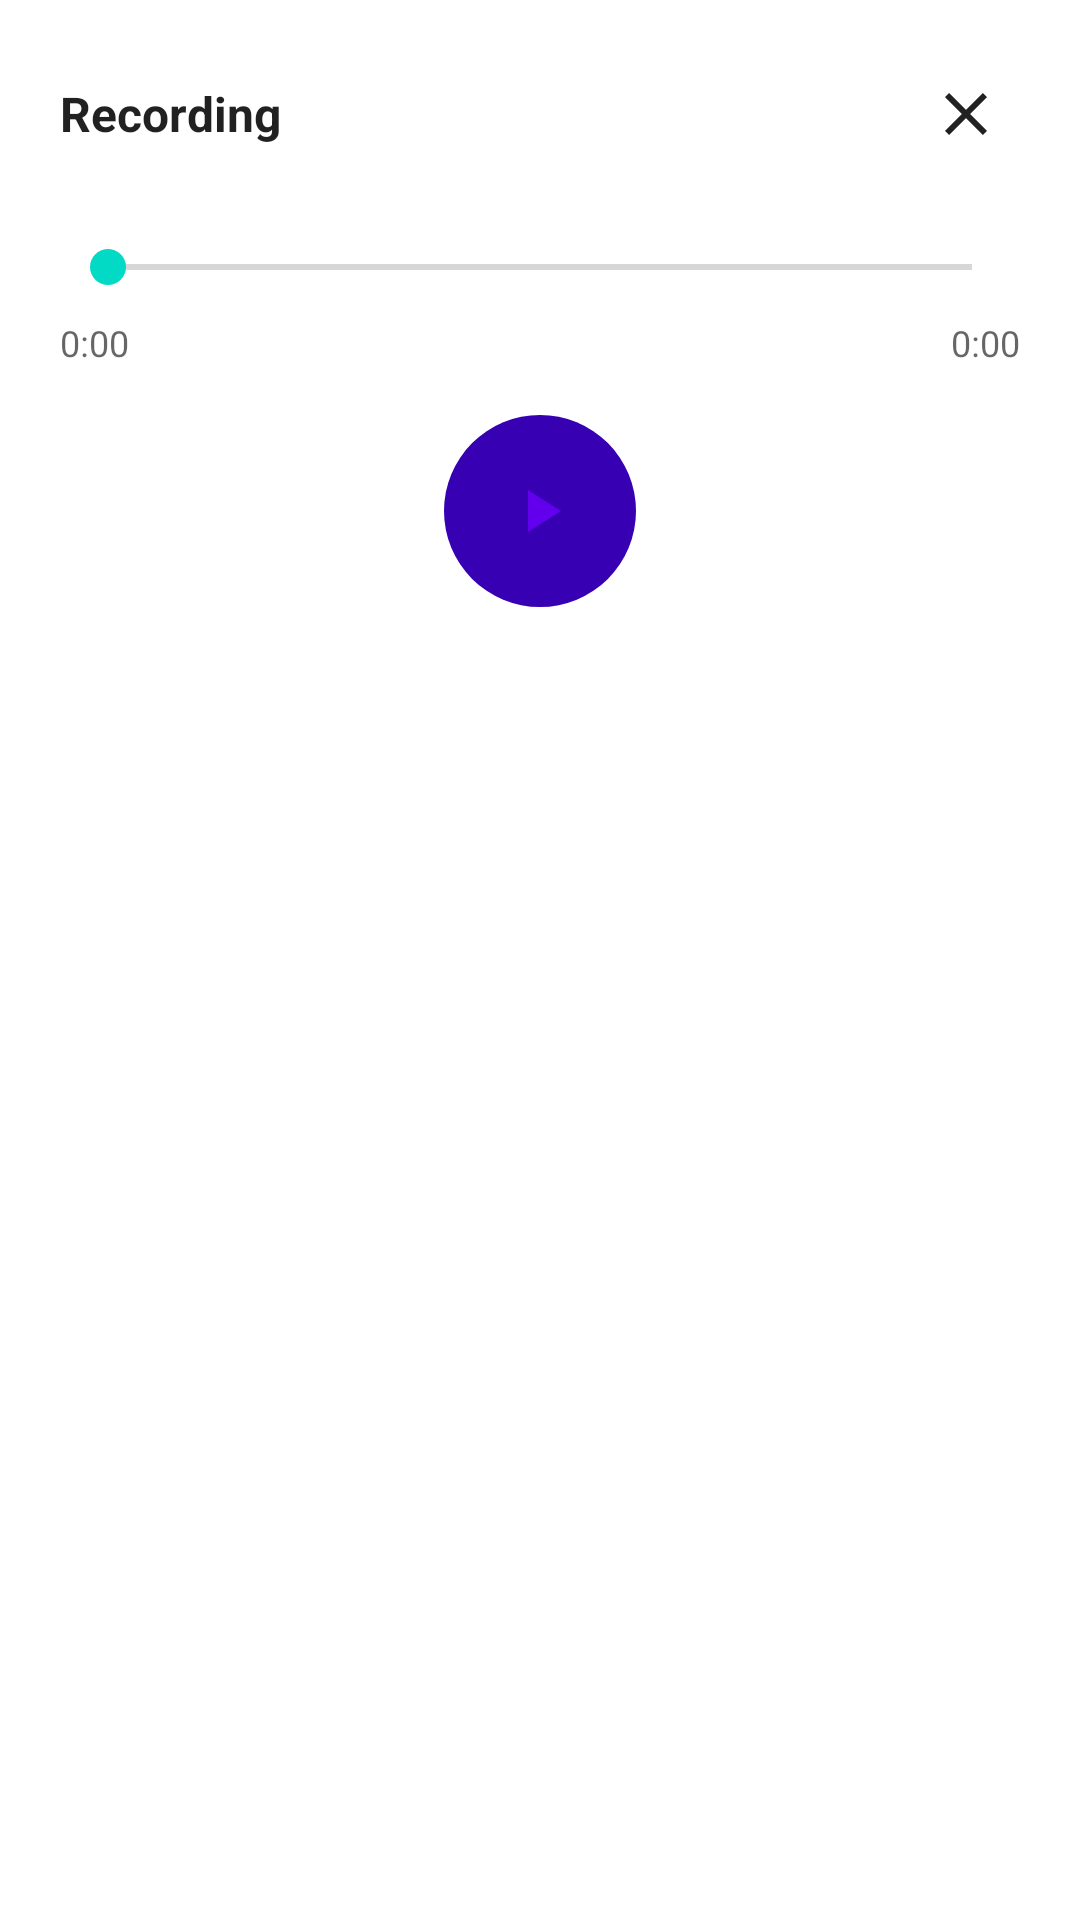

Screen size 1080x1920. Icon name, then its center in pixels as (x=x, y=y):
Close: (x=966, y=114)
Play/Pause: (x=540, y=511)
